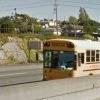Bus: (38, 34, 96, 81)
